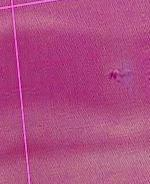knot: (108, 65, 130, 83)
